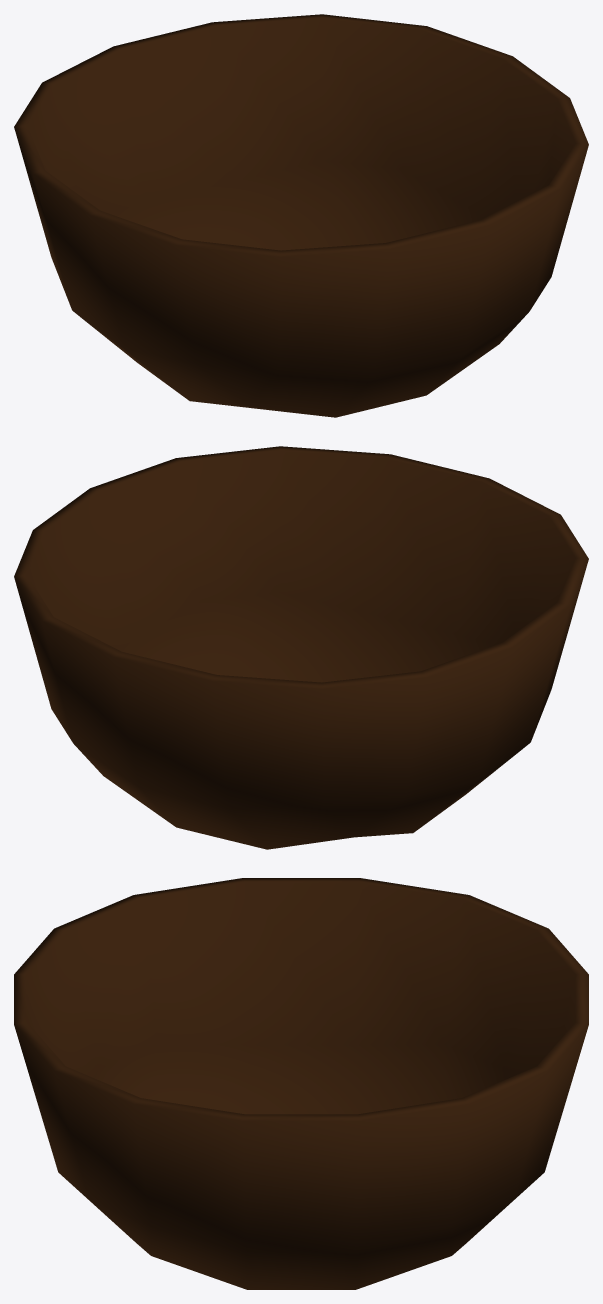
The model's file is SM_BowlTwo.fbx.
3 views of the same model, one above another, from view 1: azimuth 30°, elevation 25°; view 2: azimuth 150°, elevation 25°; view 3: azimuth 270°, elevation 25° (orthographic). The views are drawn at different scales.
Visible parts, largest first — view 1: SM_BowlTwo; view 2: SM_BowlTwo; view 3: SM_BowlTwo.
Boxes of the visible parts, left/top/right/bottom form: SM_BowlTwo: left=14, top=14, right=588, bottom=417; SM_BowlTwo: left=14, top=446, right=588, bottom=849; SM_BowlTwo: left=14, top=878, right=588, bottom=1289.
Bounding box in the file's own units: 0.2063 × 0.0975 × 0.2063.
